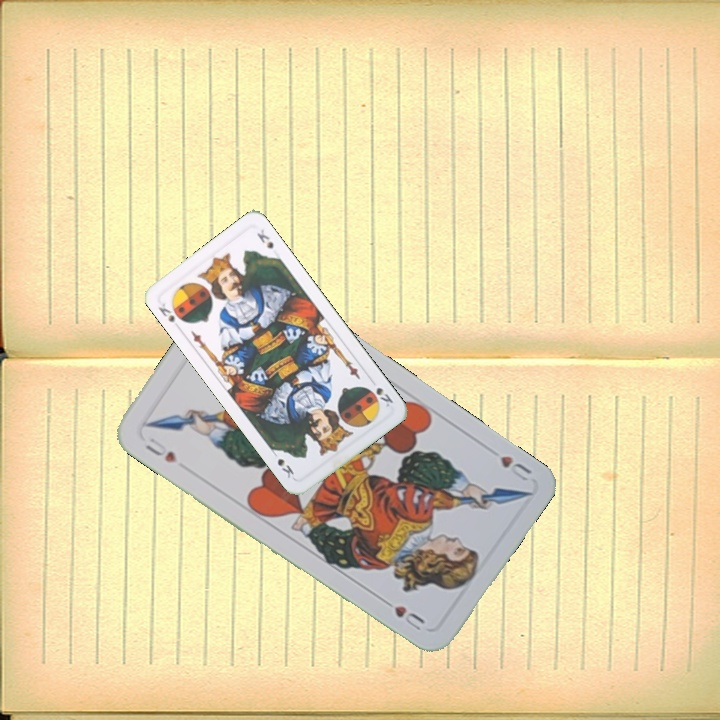HU: (141, 433, 180, 466), (496, 451, 535, 484)
SK: (372, 383, 396, 410), (154, 299, 177, 325)
